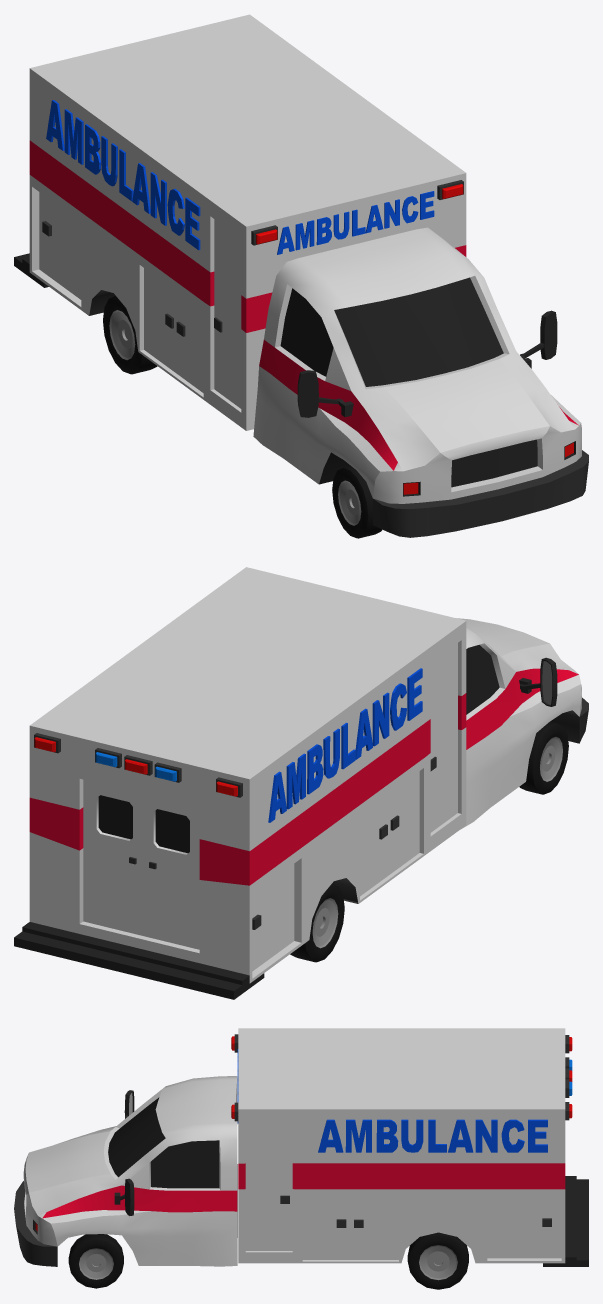
The model's file is vehicle_1.fbx.
The picture shows the model from 3 angles, top to bottom: view 1: azimuth 30°, elevation 25°; view 2: azimuth 150°, elevation 25°; view 3: azimuth 270°, elevation 25°; orthographic projection. The views are drawn at different scales.
Parts seen in each view (by area): view 1: Body, Tire_2, Tire_4; view 2: Body, Tire_2, Tire_4; view 3: Body, Tire_3, Tire_1.
Boxes of the visible parts, x1,y1,x2,y2 form: Body: (14,14,588,537); Tire_2: (332,465,382,538); Tire_4: (103,295,157,374); Body: (14,567,588,999); Tire_2: (519,721,568,794); Tire_4: (290,883,344,962); Body: (14,1028,588,1266); Tire_3: (407,1232,468,1289); Tire_1: (68,1234,123,1288).
Size of the model in its own units: 199 by 180 by 507.
